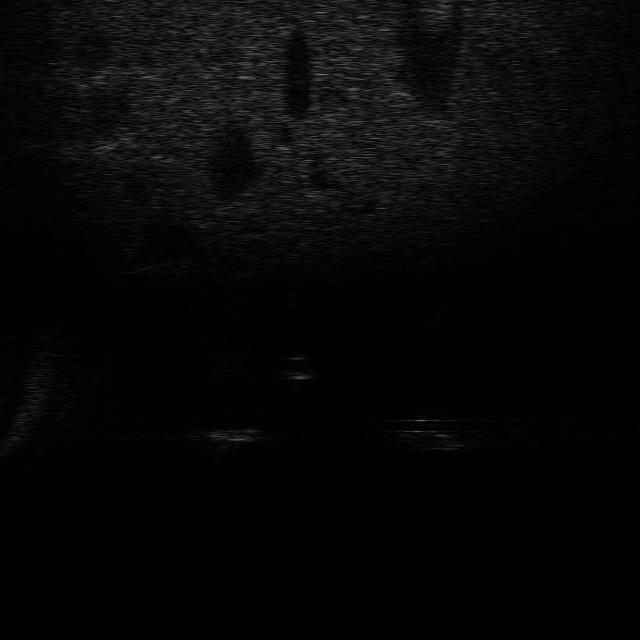ball: (274, 349, 321, 384)
square cage: (195, 421, 267, 456)
tyre: (400, 414, 475, 451)
